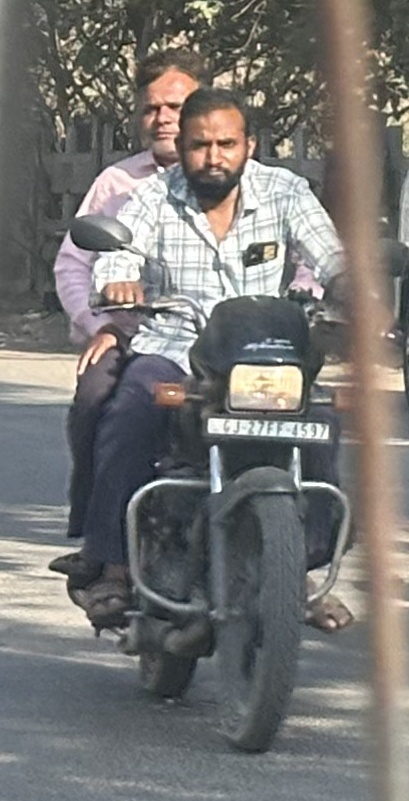BikeWithRider: (38, 42, 393, 762)
NoHelmet: (124, 43, 212, 167), (172, 85, 264, 203)
